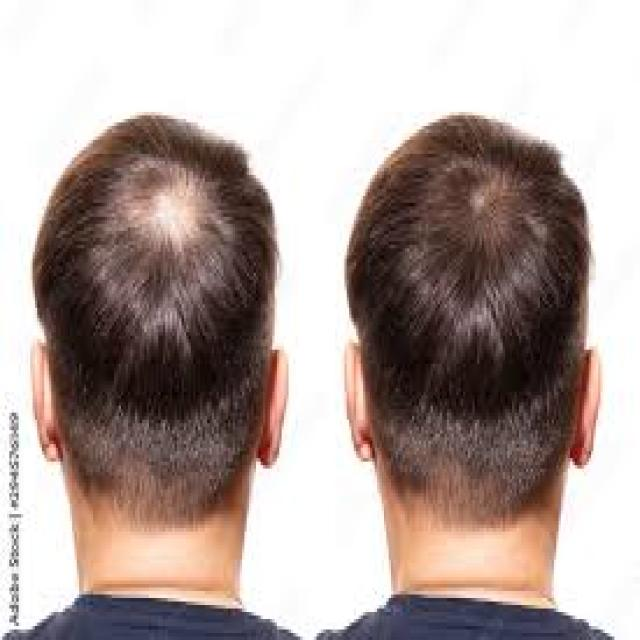Non_Helmet: (328, 64, 624, 594), (22, 116, 324, 558)
